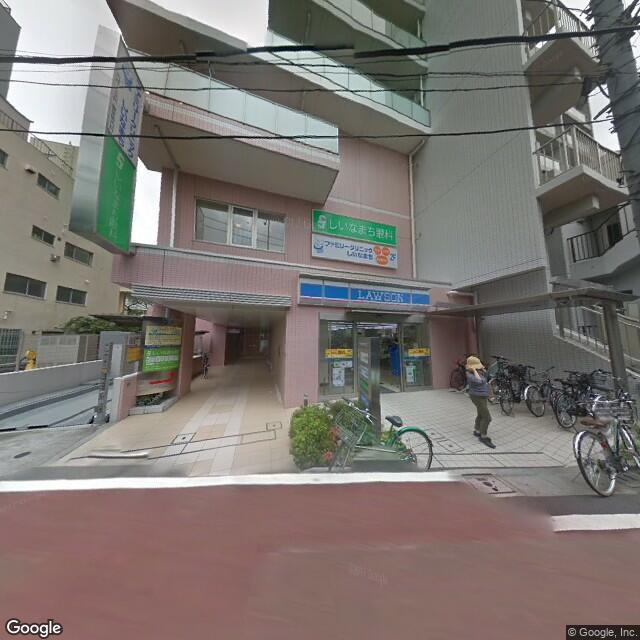lawson: (293, 276, 433, 313)
